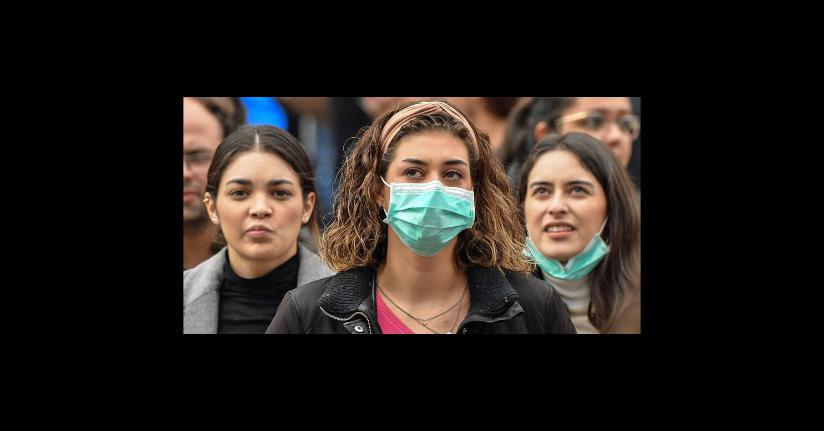mask_weared_incorrect: (526, 176, 607, 279)
with_mask: (394, 155, 474, 252)
without_mask: (223, 174, 302, 259), (577, 102, 638, 169), (180, 136, 219, 226)
